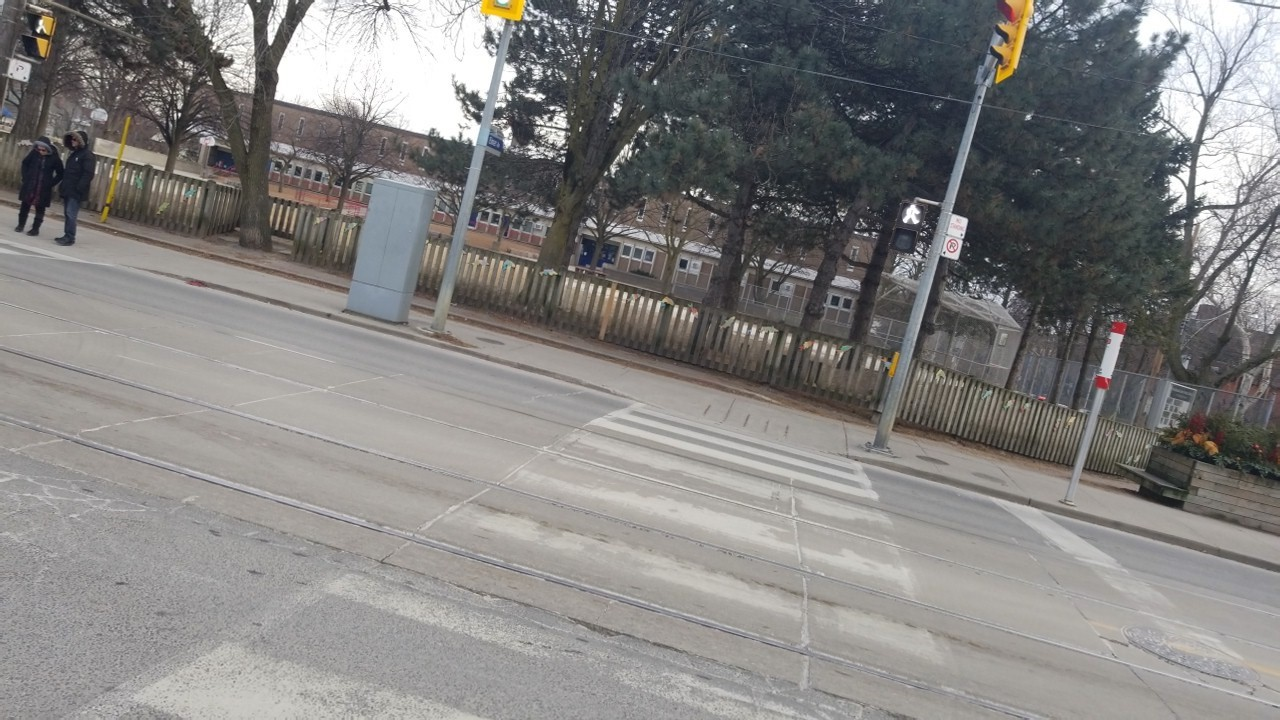light: (884, 195, 930, 257)
